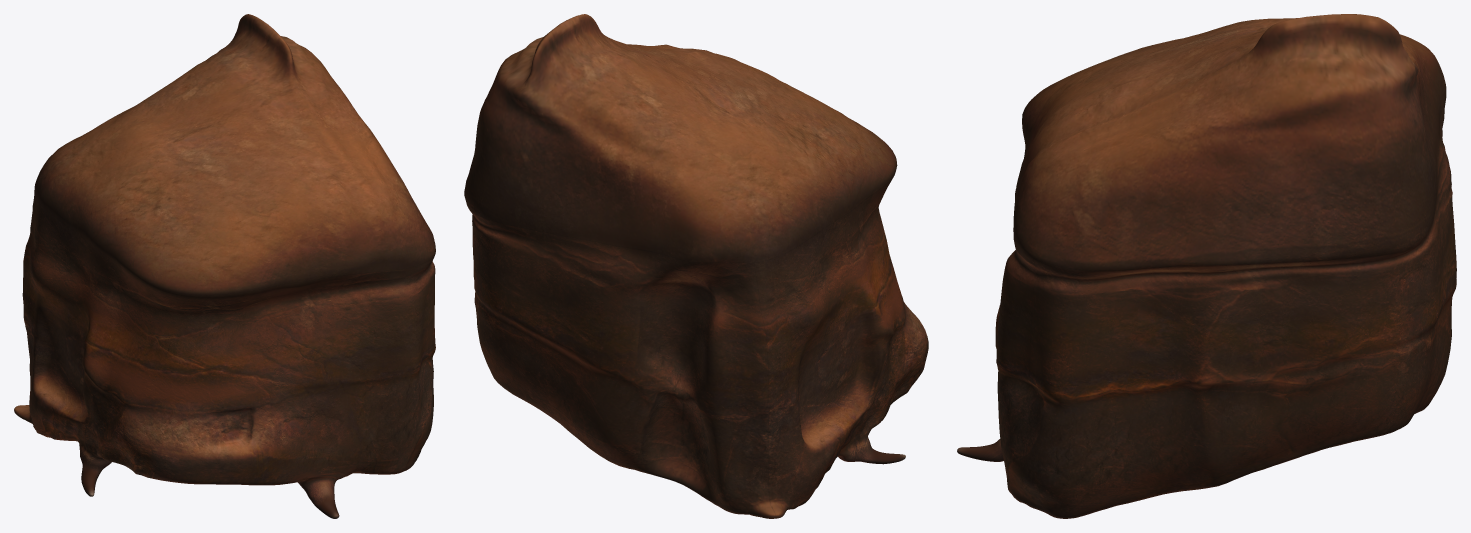
Rendered from cave_2016-05-23.obj.
3 renders of one model, left to right at view 1: azimuth 30°, elevation 25°; view 2: azimuth 150°, elevation 25°; view 3: azimuth 270°, elevation 25°, orthographic. The views are drawn at different scales.
Visible parts, largest first — view 1: caveMesh; view 2: caveMesh; view 3: caveMesh.
Boxes of the visible parts, x1,y1,x2,y2 form: caveMesh: [14, 14, 435, 518]; caveMesh: [464, 14, 928, 518]; caveMesh: [957, 14, 1456, 518].
Bounding box in the file's own units: 197 × 225 × 209.
